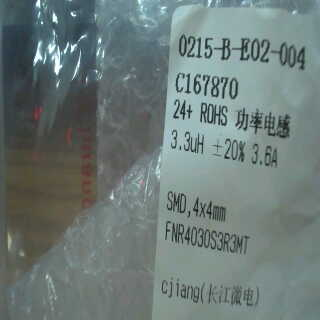3.3uH: (164, 127, 211, 157)
